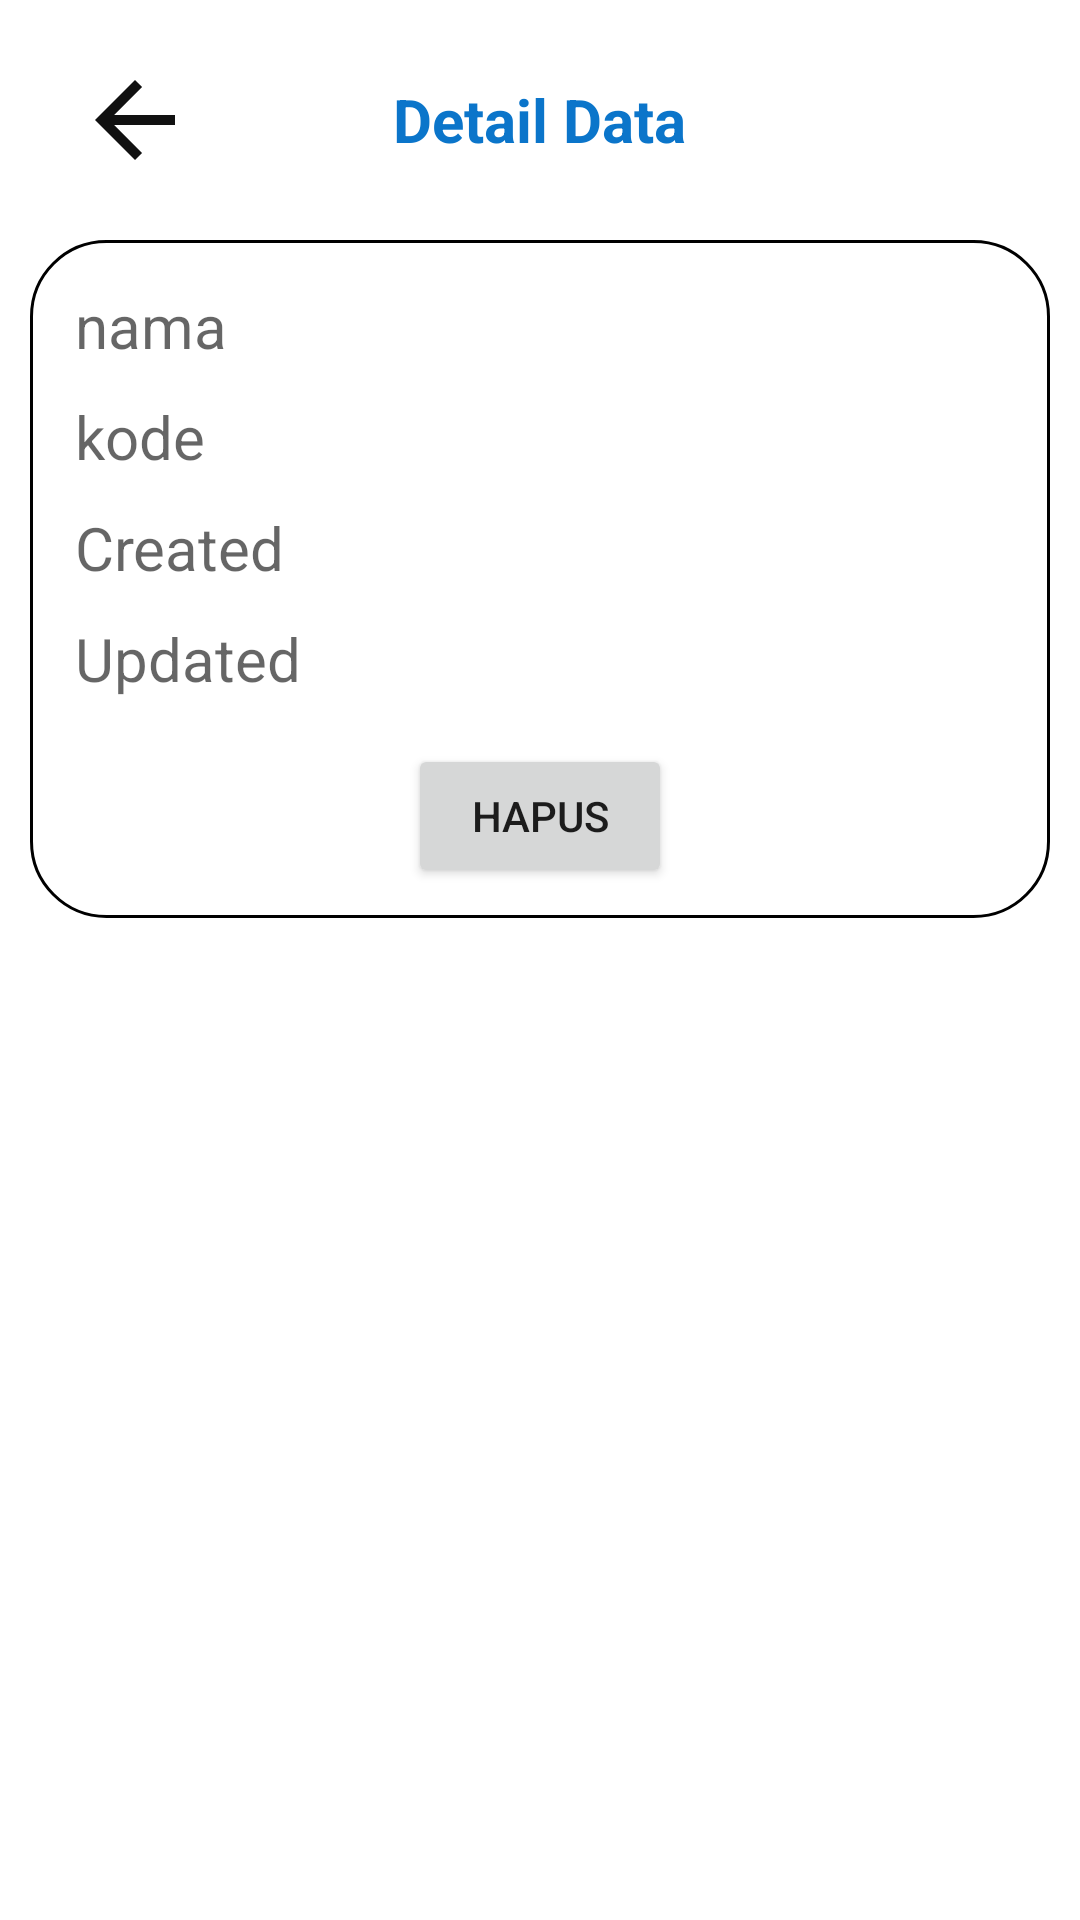

Icon click points for this 1080 × 1920 phone screenshot, format point (x, y):
back: point (135, 120)
